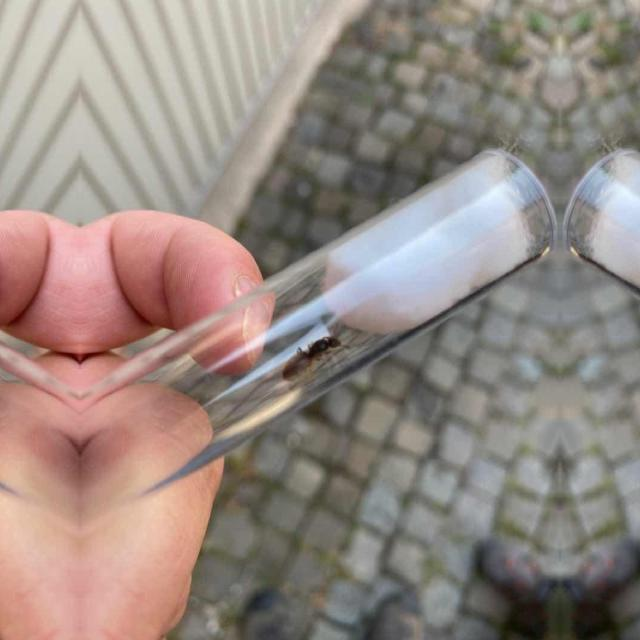Lasius: (278, 323, 344, 379)
